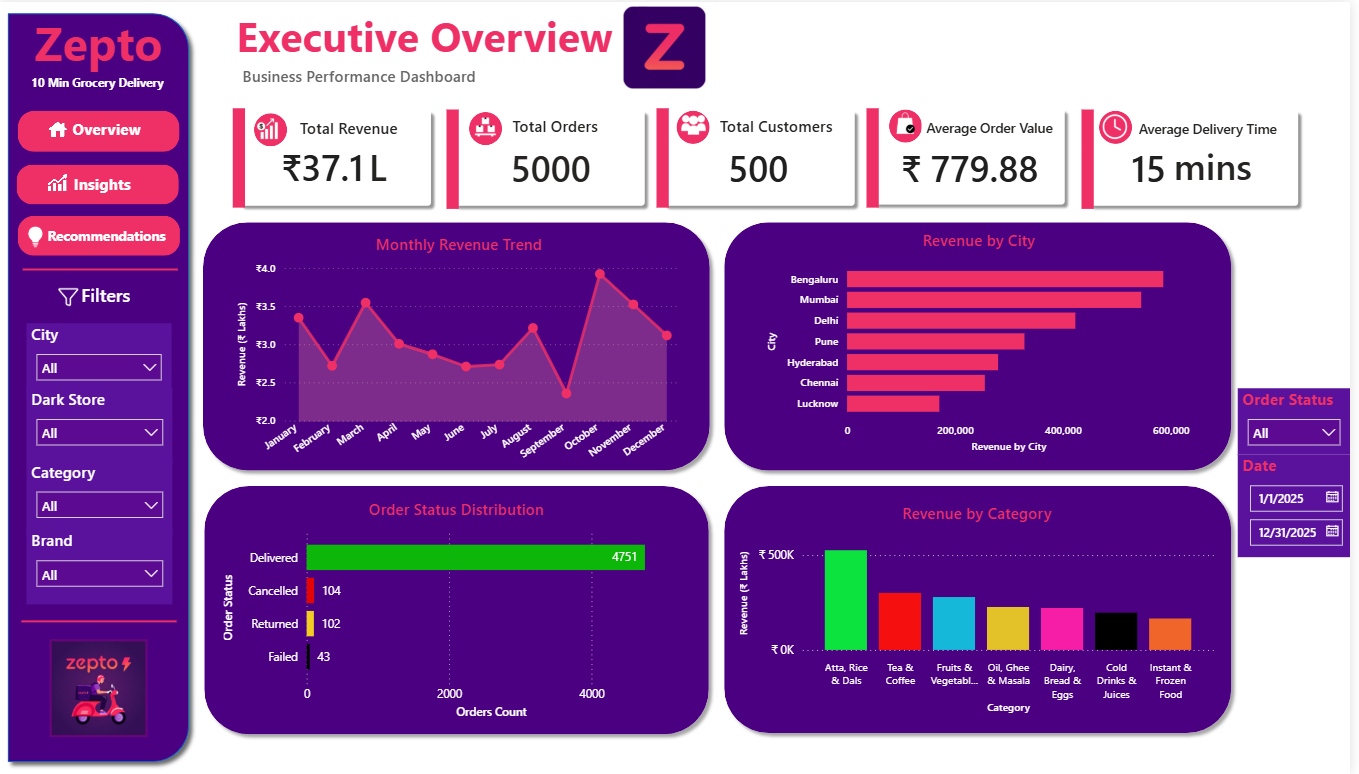

The dashboard page shown, as its layout file describes it:
{"tool":"powerbi","page":{"name":"Executive Overview","canvas":[1400,800],"ordinal":0},"visuals":[{"type":"shape","box":[0,2.6,206,794],"z":0},{"type":"image","box":[42.7,655.4,120.5,111.4],"z":1000},{"type":"textbox","box":[23.4,3.9,159.7,83.1],"z":2000},{"type":"textbox","box":[20.8,68.8,162.3,28.6],"z":3000},{"type":"shape","box":[19.4,112.7,167.7,42.7],"z":4000,"group":"g1"},{"type":"textbox","box":[75.1,286.3,75.1,37.6],"z":4000},{"type":"shape","box":[18.1,168.4,168.4,41.5],"z":5000,"group":"g2"},{"type":"image","box":[24.6,266.8,94.6,76.4],"z":5000},{"type":"image","box":[17.1,85.6,88.3,99.6],"z":6000,"group":"g1"},{"type":"shape","box":[24.6,266.8,160.6,20.7],"z":6000},{"type":"image","box":[18.6,149.3,85.6,79.3],"z":7000,"group":"g2"},{"type":"shape","box":[23.3,629.5,160.6,24.6],"z":7000},{"type":"textbox","box":[71.3,115.2,86.7,37.3],"z":8000,"group":"g1"},{"type":"slicer","title":"City","fields":{"Values":["Customers.city"]},"box":[28.5,332.9,150.3,77.7],"z":8000},{"type":"textbox","box":[72.5,172.2,88.1,36.3],"z":9000,"group":"g2"},{"type":"slicer","title":"Order Status","fields":{"Values":["Customer_Orders.order_status"]},"box":[1283.7,400.3,116.6,68.7],"z":9000},{"type":"slicer","title":"Dark Store","fields":{"Values":["Dark_Stores.store_name"]},"box":[28.5,400.3,151.6,77.7],"z":10000},{"type":"slicer","title":"Date","fields":{"Values":["Calendar.Date"]},"box":[1283.7,468.9,116.6,106.2],"z":11000},{"type":"slicer","title":"Category","fields":{"Values":["Categories.category_name"]},"box":[28.5,475.4,151.6,77.7],"z":12000},{"type":"shape","box":[241.6,104.3,212.4,113.2],"z":13000},{"type":"slicer","title":"Brand","fields":{"Values":["Brands.brand_name"]},"box":[28.5,546.6,151.6,77.7],"z":14000},{"type":"shape","box":[241.6,110.6,12.7,103],"z":15000},{"type":"shape","box":[264.5,115.7,34.3,34.3],"z":16000},{"type":"textbox","box":[306.5,114.5,134.8,31.8],"z":17000},{"type":"textbox","box":[240.9,0,435.2,60.9],"z":18000},{"type":"card","fields":{"Values":["Customer_Orders.Revenue | Total (Lakhs)"]},"box":[216.3,126.9,238.3,88.1],"z":19000},{"type":"textbox","box":[247.4,60.9,336.8,33.7],"z":20000},{"type":"shape","box":[464.2,104.3,212.4,113.2],"z":21000},{"type":"image","box":[636,0,107.5,94.6],"z":22000},{"type":"shape","box":[464.2,111.9,12.7,103],"z":23000},{"type":"shape","box":[487.2,113.5,34.3,34.3],"z":24000},{"type":"textbox","box":[527.8,113.2,119.5,31.8],"z":25000},{"type":"shape","box":[681.7,104.3,212.4,113.2],"z":26000},{"type":"shape","box":[681.7,110.6,12.7,103],"z":27000},{"type":"shape","box":[702.7,112.3,34.3,34.3],"z":28000},{"type":"textbox","box":[742.7,113.2,127.2,34.3],"z":29000},{"type":"shape","box":[899.4,103.8,212.4,113.2],"z":30000},{"type":"shape","box":[899.4,110.1,12.7,103],"z":31000},{"type":"shape","box":[922.1,111.9,34.3,34.3],"z":32000},{"type":"textbox","box":[956.4,115.7,146.3,33.1],"z":33000},{"type":"shape","box":[1121.7,105.6,231.5,113.2],"z":34000},{"type":"shape","box":[1121.7,111.9,12.7,103],"z":35000},{"type":"shape","box":[1139.5,113.2,34.3,34.3],"z":36000},{"type":"textbox","box":[1176.4,117,165.3,30.5],"z":37000},{"type":"card","fields":{"Values":["Customer_Orders.Orders | Total"]},"box":[441.3,143.7,260.7,56],"z":38000},{"type":"card","fields":{"Values":["Customer_Orders.Customers | Total"]},"box":[656.3,143.7,260.7,56],"z":39000},{"type":"image","box":[696.9,106.8,45.8,42],"z":40000},{"type":"card","fields":{"Values":["Customer_Orders.Order | Average Value"]},"box":[875,143.7,260.7,56],"z":41000},{"type":"image","box":[915.7,108.1,47.1,35.6],"z":42000},{"type":"image","box":[474.4,111.9,59.8,39.4],"z":43000},{"type":"image","box":[1135.7,109.4,40.7,40.7],"z":44000},{"type":"card","fields":{"Values":["Customer_Orders.Average Delivery Time"]},"box":[1156.1,143.7,72.5,56],"z":45000},{"type":"textbox","box":[1212,139.9,105.6,62.3],"z":46000},{"type":"image","box":[248,97.9,69.9,68.7],"z":47000},{"type":"shape","box":[203.6,220.6,541.1,273.2],"z":48000},{"type":"lineChart","title":"Monthly Revenue Trend","fields":{"Category":["Calendar.Month Name"],"Y":["Customer_Orders.Revenue | Total (Lakhs)"]},"box":[242.2,230.6,468.9,257.8],"z":49000},{"type":"shape","box":[743.5,220.2,541.5,273.3],"z":50000},{"type":"textbox","box":[358.8,141.2,57,66.1],"z":51000},{"type":"shape","box":[743.5,493.5,541.5,272],"z":52000},{"type":"clusteredColumnChart","title":"Revenue by Category","fields":{"Category":["Categories.category_name"],"Y":["Order_Items.Product Revenue"]},"box":[763,518.1,501.3,224.1],"z":53000},{"type":"shape","box":[204.7,493.5,538.9,273.3],"z":54000},{"type":"clusteredBarChart","title":"Revenue by City","fields":{"Category":["Dark_Stores.city"],"Y":["Customer_Orders.Business Revenue"]},"box":[791.5,235.8,448.2,235.8],"z":55000},{"type":"barChart","title":"Order Status Distribution","fields":{"Category":["Customer_Orders.order_status"],"Y":["Customer_Orders.Orders Count"]},"box":[228,514.2,492.2,234.5],"z":56000},{"type":"group","id":"g1","title":"btn_Overview_BG","box":[17.1,85.6,170,99.6],"z":57000},{"type":"group","id":"g2","title":"btn_Insights_BG","box":[18.1,149.3,168.4,79.3],"z":58000},{"type":"group","id":"g3","title":"btn_Recommendation_BG","box":[18.1,221.5,174.9,42.7],"z":59000},{"type":"actionButton","title":"Overview btn","box":[18.7,113.6,166.4,42],"z":60000},{"type":"actionButton","title":"Insight btn","box":[18.3,168.9,167.4,41.1],"z":61000},{"type":"actionButton","title":"Recommendation btn","box":[19.8,223.7,167.4,41.1],"z":62000},{"type":"shape","box":[19.4,221.5,168.4,41.5],"z":63000,"group":"g3"},{"type":"image","box":[18.1,224.1,38.9,36.3],"z":64000,"group":"g3"},{"type":"textbox","box":[45.3,228,147.7,36.3],"z":65000,"group":"g3"}]}

Visuals, with their boxes in screenshot pixels (x1, y1, x2, y2), scaled from the page's 1400x800 canvas onto the 1359x774 screenshot:
shape: <box>0,3,200,771</box>
image: <box>41,634,158,742</box>
textbox: <box>23,4,178,84</box>
textbox: <box>20,67,178,94</box>
shape: <box>19,109,182,150</box>
textbox: <box>73,277,146,313</box>
shape: <box>18,163,181,203</box>
image: <box>24,258,116,332</box>
image: <box>17,83,102,179</box>
shape: <box>24,258,180,278</box>
image: <box>18,144,101,221</box>
shape: <box>23,609,179,633</box>
textbox: <box>69,111,153,148</box>
"City" slicer: <box>28,322,174,397</box>
textbox: <box>70,167,156,202</box>
"Order Status" slicer: <box>1246,387,1358,454</box>
"Dark Store" slicer: <box>28,387,175,462</box>
"Date" slicer: <box>1246,454,1358,556</box>
"Category" slicer: <box>28,460,175,535</box>
shape: <box>235,101,441,210</box>
"Brand" slicer: <box>28,529,175,604</box>
shape: <box>235,107,247,207</box>
shape: <box>257,112,290,145</box>
textbox: <box>298,111,428,142</box>
textbox: <box>234,0,656,59</box>
card - Customer_Orders.Revenue | Total (Lakhs): <box>210,123,441,208</box>
textbox: <box>240,59,567,92</box>
shape: <box>451,101,657,210</box>
image: <box>617,0,722,92</box>
shape: <box>451,108,463,208</box>
shape: <box>473,110,506,143</box>
textbox: <box>512,110,628,140</box>
shape: <box>662,101,868,210</box>
shape: <box>662,107,674,207</box>
shape: <box>682,109,715,142</box>
textbox: <box>721,110,844,143</box>
shape: <box>873,100,1079,210</box>
shape: <box>873,107,885,206</box>
shape: <box>895,108,928,141</box>
textbox: <box>928,112,1070,144</box>
shape: <box>1089,102,1314,212</box>
shape: <box>1089,108,1101,208</box>
shape: <box>1106,110,1139,143</box>
textbox: <box>1142,113,1302,143</box>
card - Customer_Orders.Orders | Total: <box>428,139,681,193</box>
card - Customer_Orders.Customers | Total: <box>637,139,890,193</box>
image: <box>676,103,721,144</box>
card - Customer_Orders.Order | Average Value: <box>849,139,1102,193</box>
image: <box>889,105,935,139</box>
image: <box>461,108,519,146</box>
image: <box>1102,106,1142,145</box>
card - Customer_Orders.Average Delivery Time: <box>1122,139,1193,193</box>
textbox: <box>1177,135,1279,196</box>
image: <box>241,95,309,161</box>
shape: <box>198,213,723,478</box>
"Monthly Revenue Trend" lineChart: <box>235,223,690,473</box>
shape: <box>722,213,1247,477</box>
textbox: <box>348,137,404,201</box>
shape: <box>722,477,1247,741</box>
"Revenue by Category" clusteredColumnChart: <box>741,501,1227,718</box>
shape: <box>199,477,722,742</box>
"Revenue by City" clusteredBarChart: <box>768,228,1203,456</box>
"Order Status Distribution" barChart: <box>221,497,699,724</box>
"btn_Overview_BG" group: <box>17,83,182,179</box>
"btn_Insights_BG" group: <box>18,144,181,221</box>
"btn_Recommendation_BG" group: <box>18,214,187,256</box>
"Overview btn" actionButton: <box>18,110,180,151</box>
"Insight btn" actionButton: <box>18,163,180,203</box>
"Recommendation btn" actionButton: <box>19,216,182,256</box>
shape: <box>19,214,182,254</box>
image: <box>18,217,55,252</box>
textbox: <box>44,221,187,256</box>
